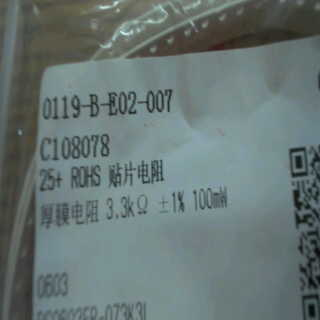3.3kO: (98, 188, 150, 229)
